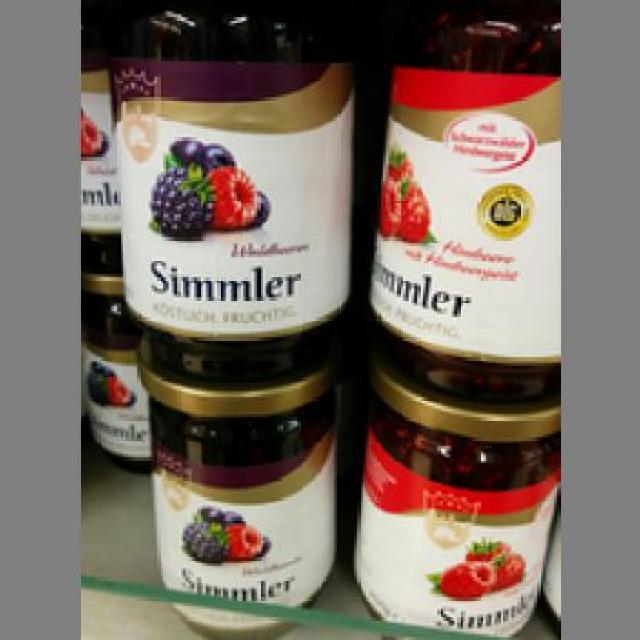Jam: (103, 0, 361, 375), (366, 0, 557, 406), (134, 352, 337, 634), (349, 374, 560, 637)
